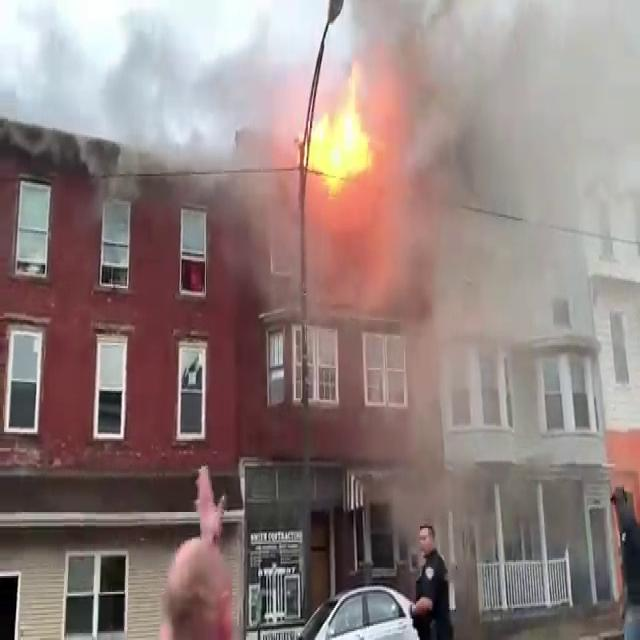Fire: (300, 65, 379, 195)
Smoke: (365, 0, 639, 464), (89, 1, 308, 195)
